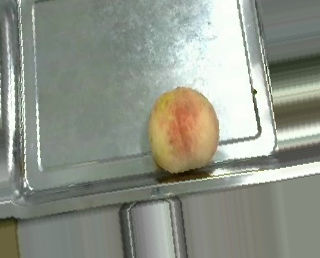Peach: (148, 86, 218, 173)
